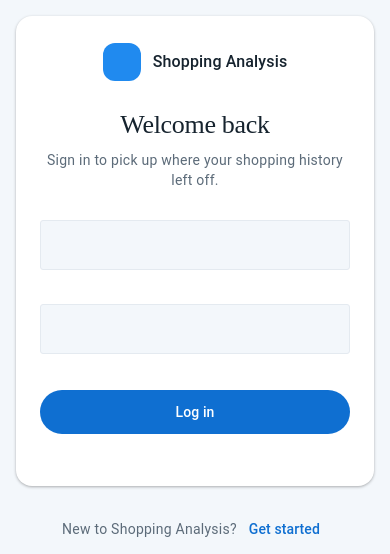
LoginScreen › shows a required-field error for each empty field and does not submit
Step 1. Click the button labelled "Log in" → (195, 412), box [40,390,350,434]
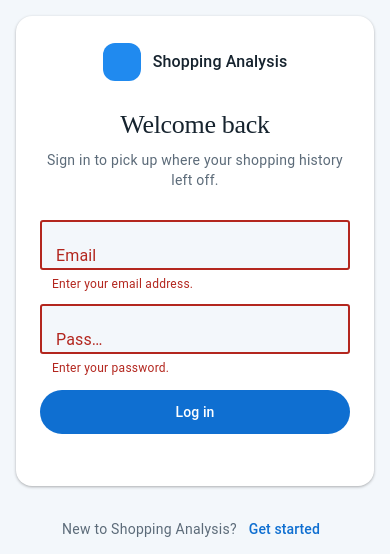
Result: the text "Enter your email address." is shown at [52,277,193,291]
Result: the text "Enter your password." is shown at [52,361,169,375]
